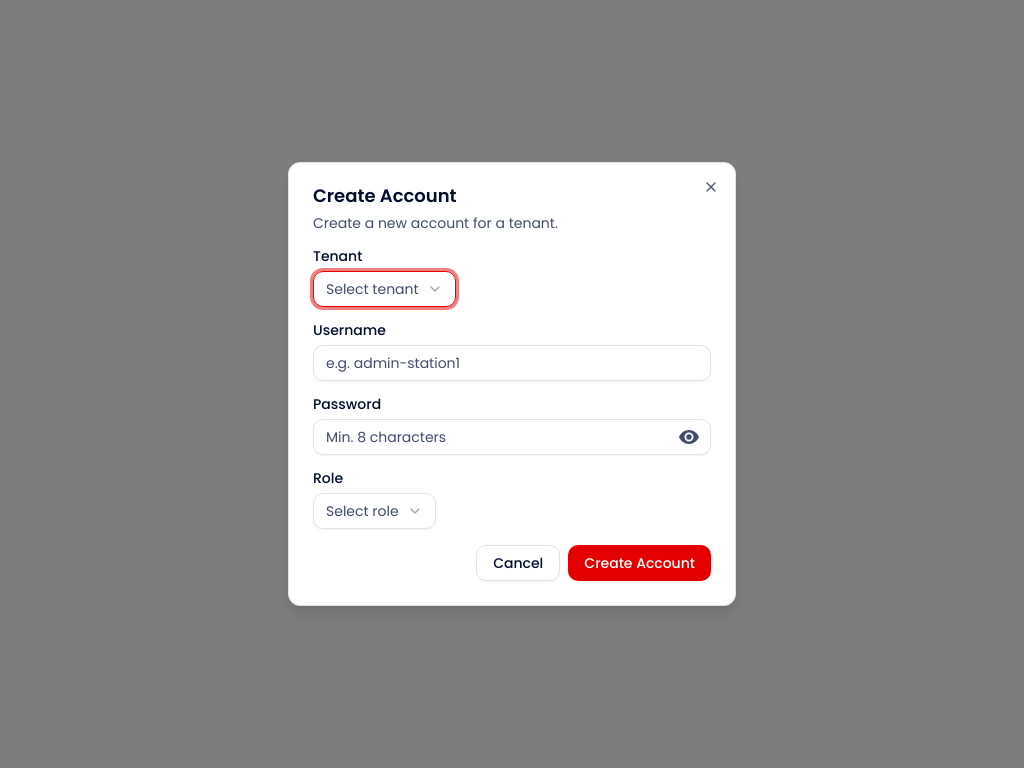
Test: AccountCreateDialog › shows username error for spaces
Step 1. Type "user name" into the field with placeholder "e.g. admin-station1" → point(512, 363), box [313, 345, 711, 381]
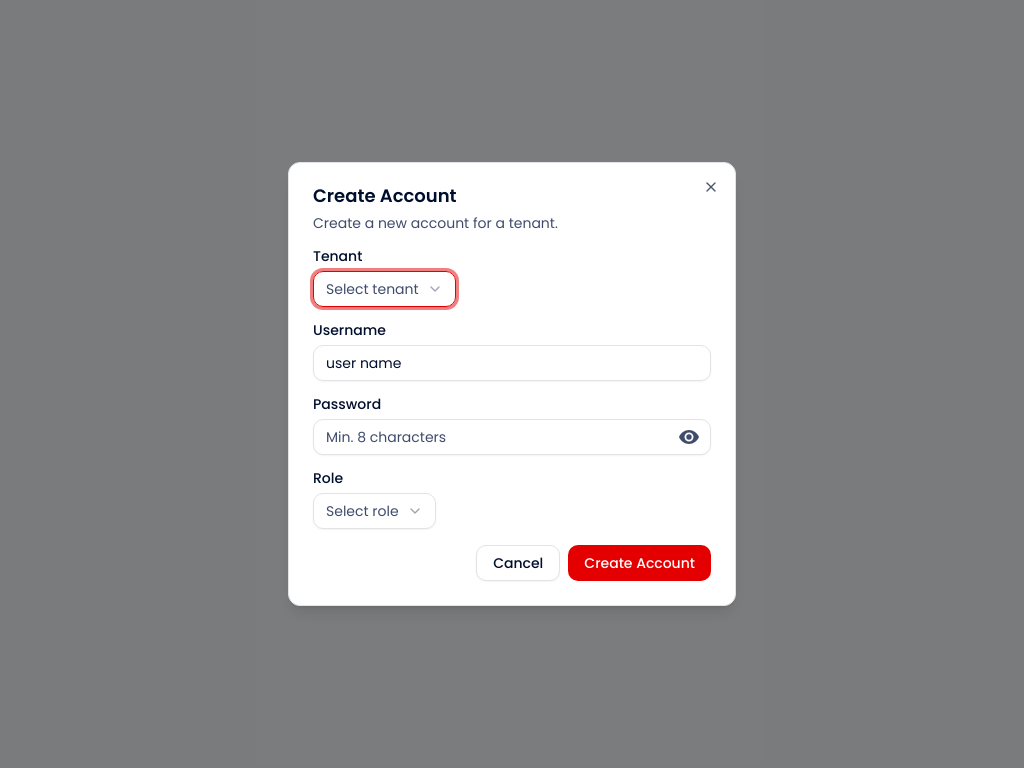
Step 2. Leave the field with placeholder "e.g. admin-station1", box [313, 345, 711, 381]
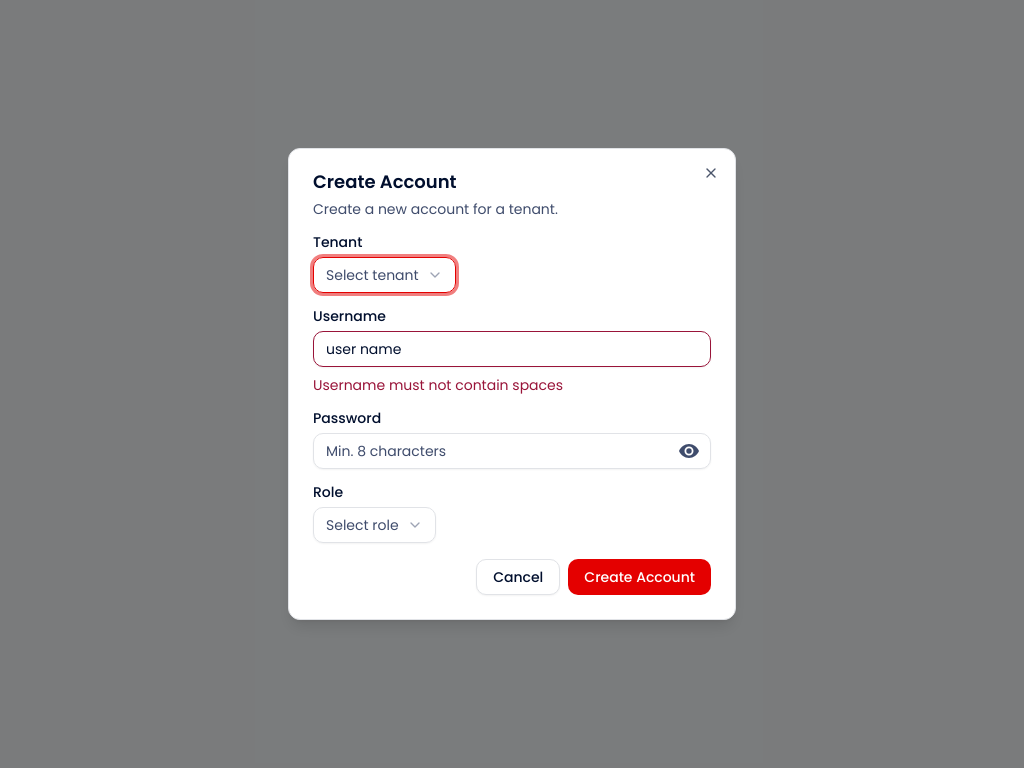
expect the text "Username must not contain spaces" is shown: met, box [313, 375, 563, 395]
